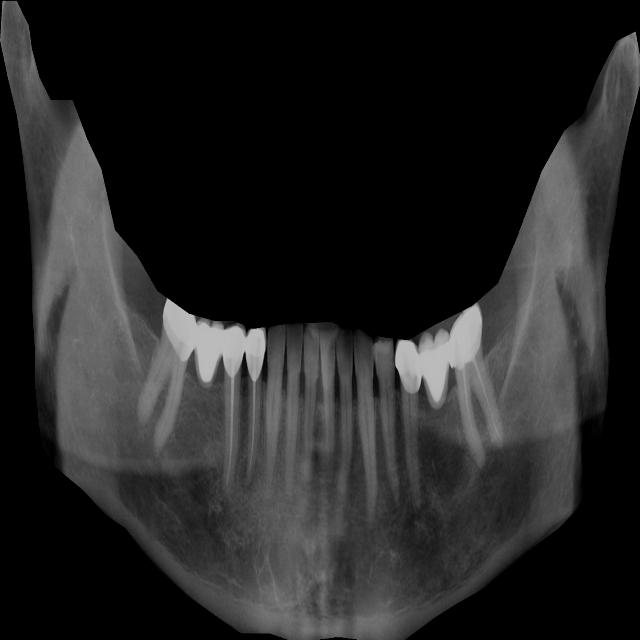mandibula: (0, 1, 640, 640)
